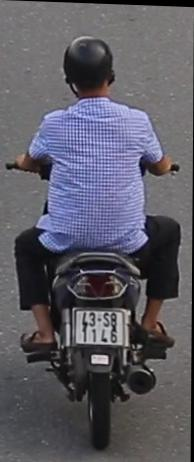LP: (70, 303, 130, 349)
helmet: (61, 31, 119, 112)
